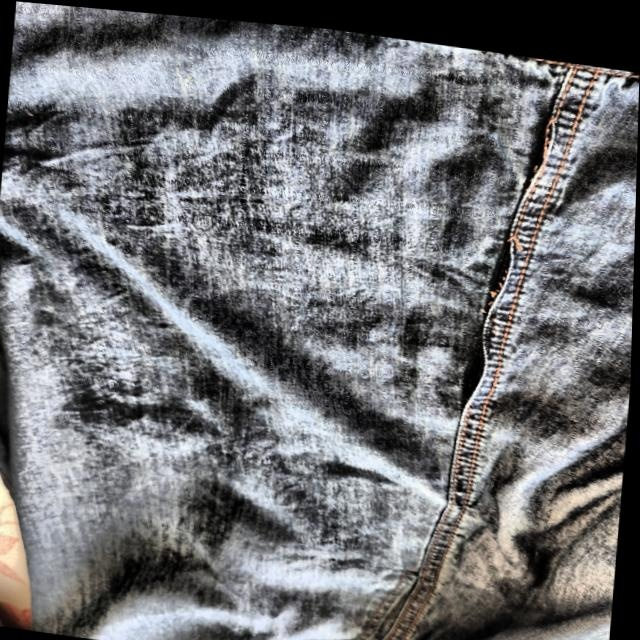seam: (511, 86, 575, 196), (446, 314, 506, 420), (473, 218, 534, 310)
